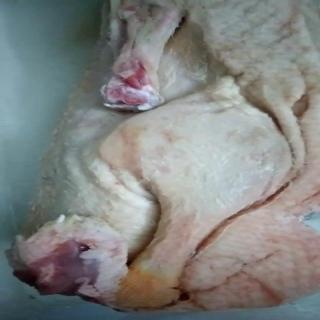Ayam: (4, 1, 320, 314)
